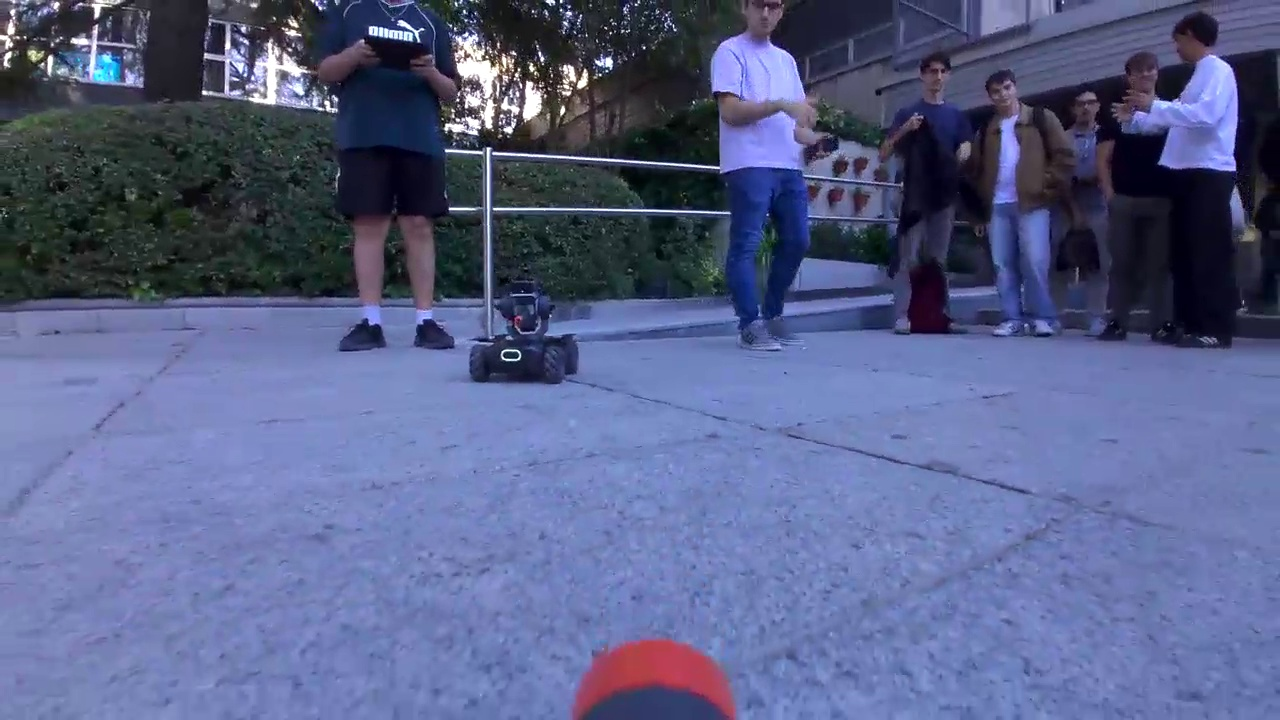robot: (470, 289, 580, 387)
